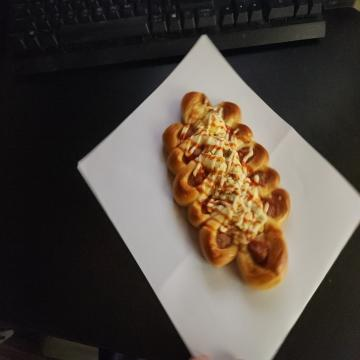pizza_bread: (162, 92, 290, 288)
